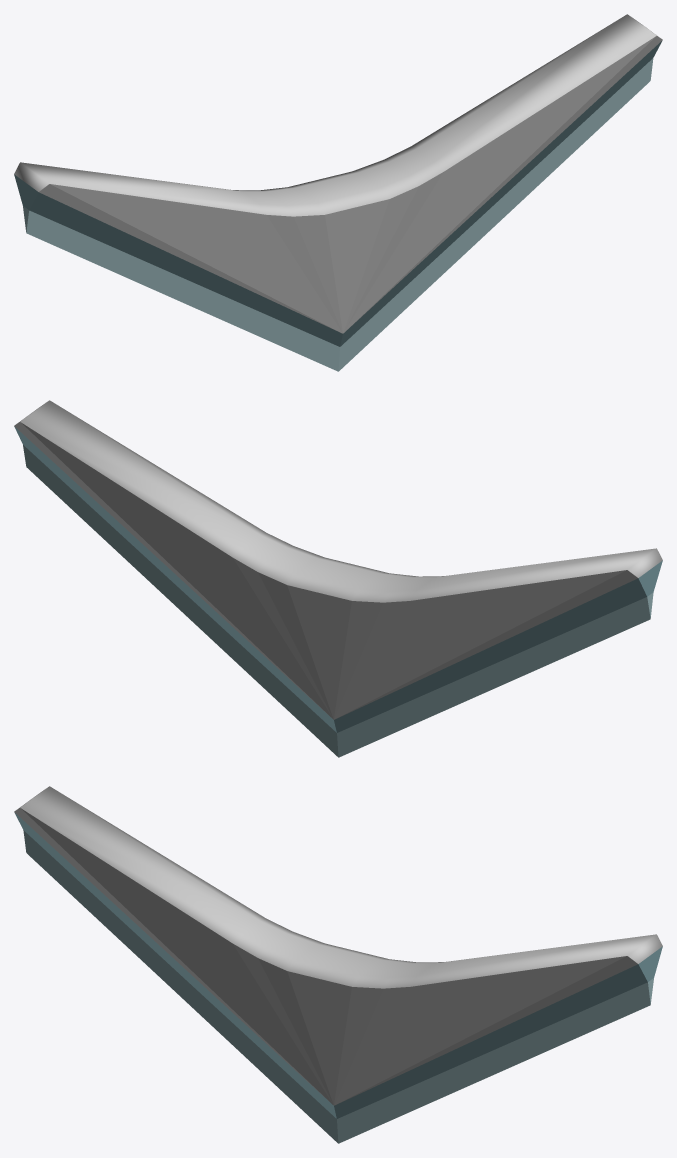
3 views of the same model, one above another, from view 1: azimuth 30°, elevation 25°; view 2: azimuth 150°, elevation 25°; view 3: azimuth 330°, elevation 25° (orthographic).
Visible parts, largest first — view 1: CuttingTrap; view 2: CuttingTrap; view 3: CuttingTrap.
Part boxes in pixels (left/top/right/bottom): CuttingTrap: left=14, top=14, right=662, bottom=371; CuttingTrap: left=14, top=400, right=662, bottom=757; CuttingTrap: left=14, top=786, right=662, bottom=1143.
Size of what is drawn, in the model's own units: 72.2 by 7.55 by 30.14.
